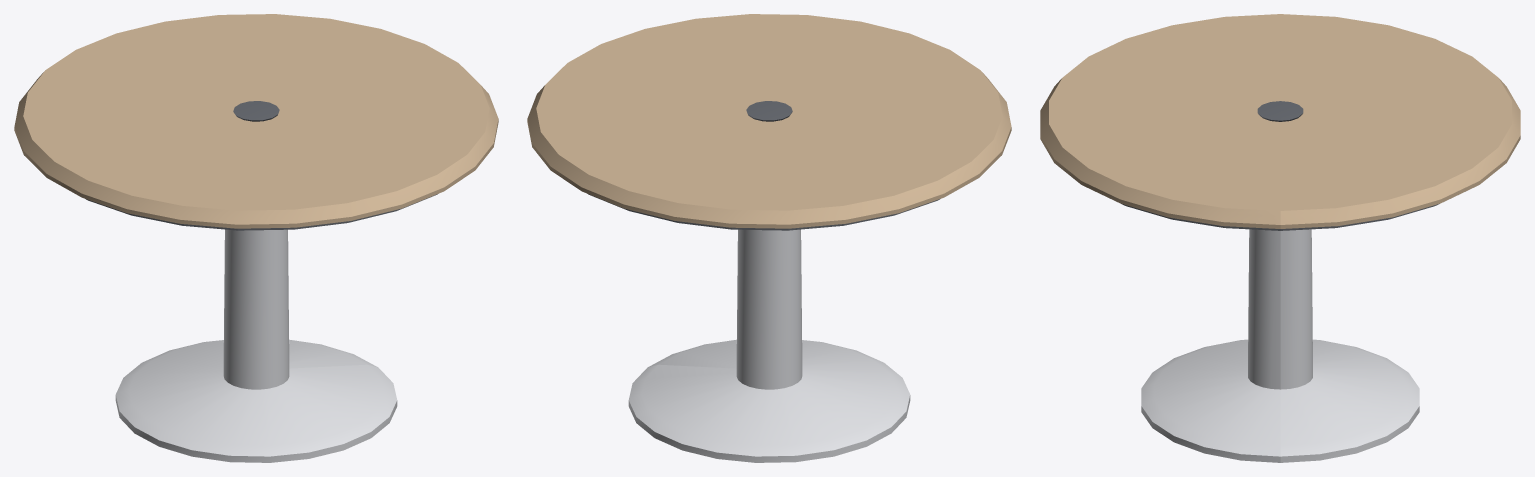
File: downtown-office-interiors-meeting-table-round-4-f0e7c30f.glb
The picture shows the model from 3 angles, left to right: view 1: azimuth 30°, elevation 25°; view 2: azimuth 150°, elevation 25°; view 3: azimuth 270°, elevation 25°; orthographic projection.
Visible parts, largest first — view 1: meeting-table-round-4; view 2: meeting-table-round-4; view 3: meeting-table-round-4.
Part boxes in pixels (x1=…): meeting-table-round-4: x1=14, y1=14, x2=498, y2=462; meeting-table-round-4: x1=527, y1=14, x2=1011, y2=462; meeting-table-round-4: x1=1040, y1=14, x2=1520, y2=462.
Size of the model in its own units: 1.1 by 0.735 by 1.09.
